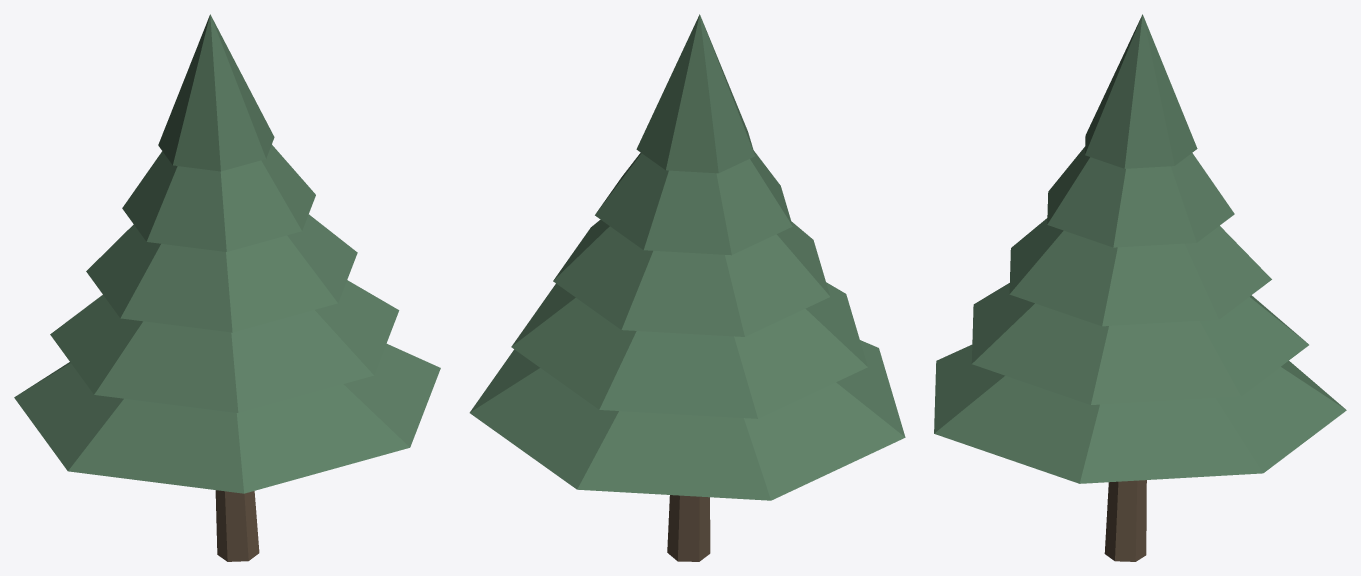
3 renders of one model, left to right at view 1: azimuth 30°, elevation 25°; view 2: azimuth 150°, elevation 25°; view 3: azimuth 270°, elevation 25°, orthographic. The views are drawn at different scales.
Visible parts, largest first — view 1: Tree; view 2: Tree; view 3: Tree.
Boxes of the visible parts, box(x1,y1,x2,y2) form: Tree: box(14, 14, 440, 561); Tree: box(469, 14, 905, 561); Tree: box(934, 14, 1346, 561).
Size of the model in its own units: 244 by 339 by 238.
